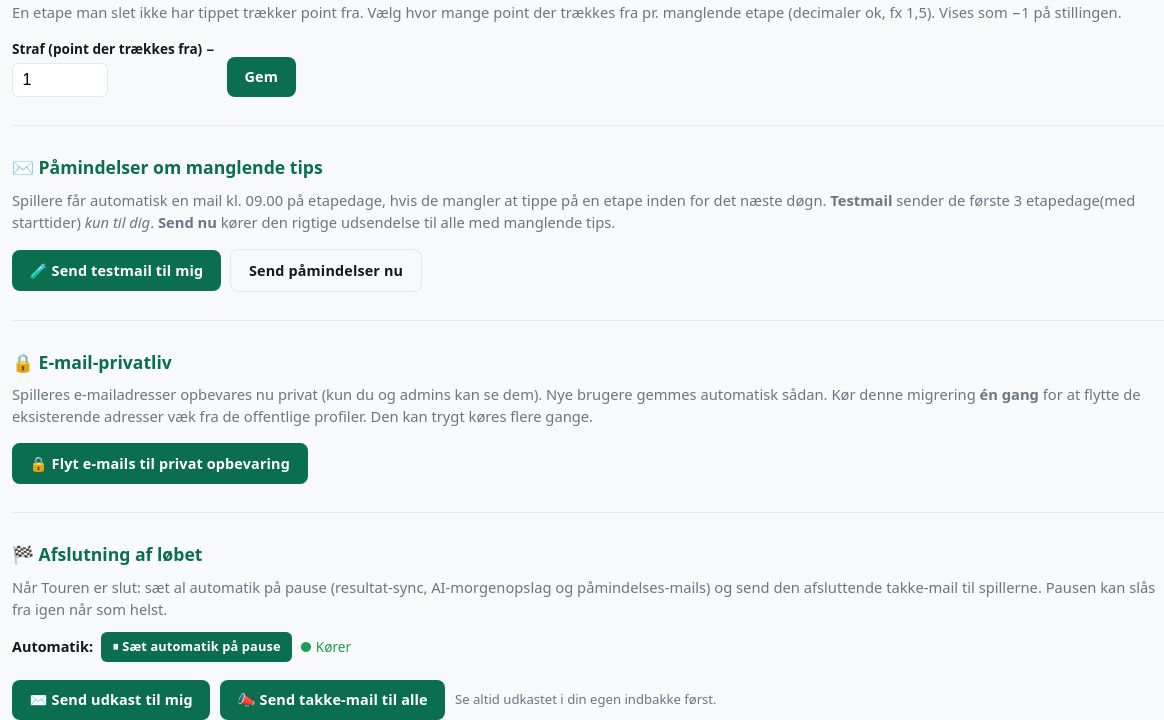
Test: SettingsTab — 🏁 Afslutning af løbet › udkast sender kun til admin selv (dryRun:true) uden bekræftelse
(page scrolled)
Click the button with test id "thankyou-draft": point(111, 700) x1=12 y1=680 x2=210 y2=719
(page scrolled)
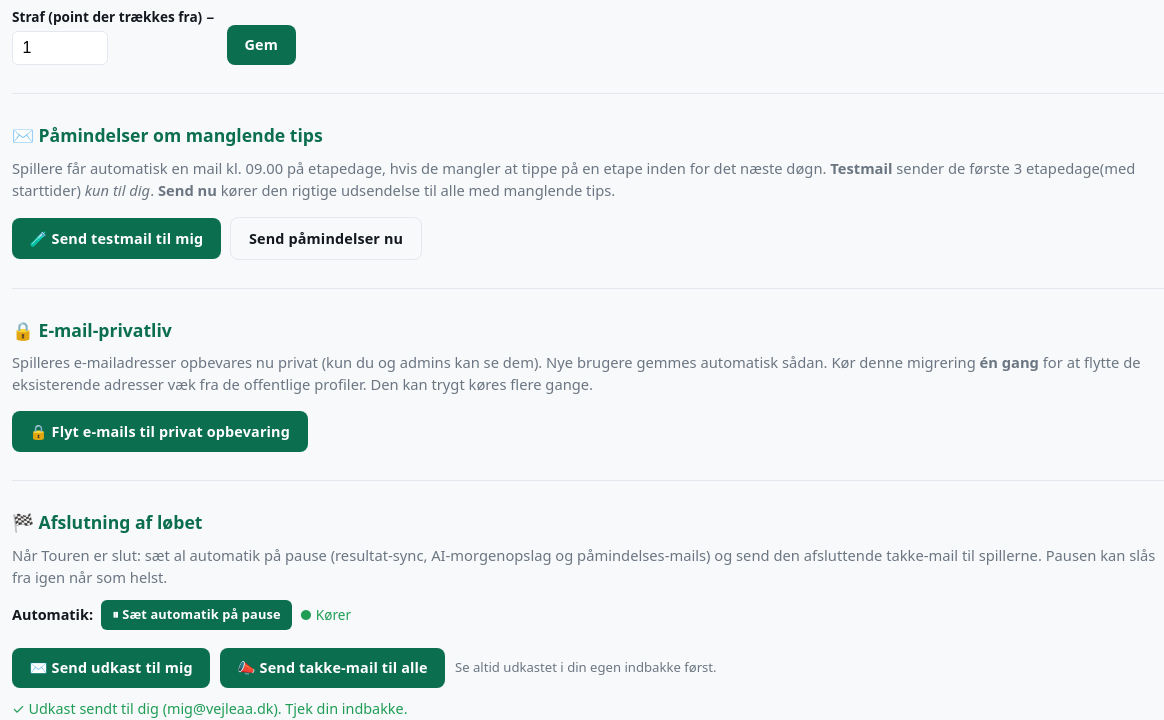
Now the text "✓ Udkast sendt til dig (mig@vejleaa.dk). Tjek din indbakke." is shown, box x1=12 y1=699 x2=408 y2=718
